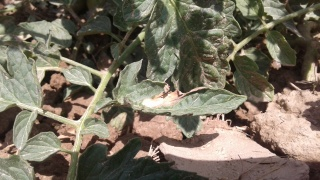tomato diseased leaf: (124, 76, 245, 120)
tomato plant: (6, 1, 267, 66)
